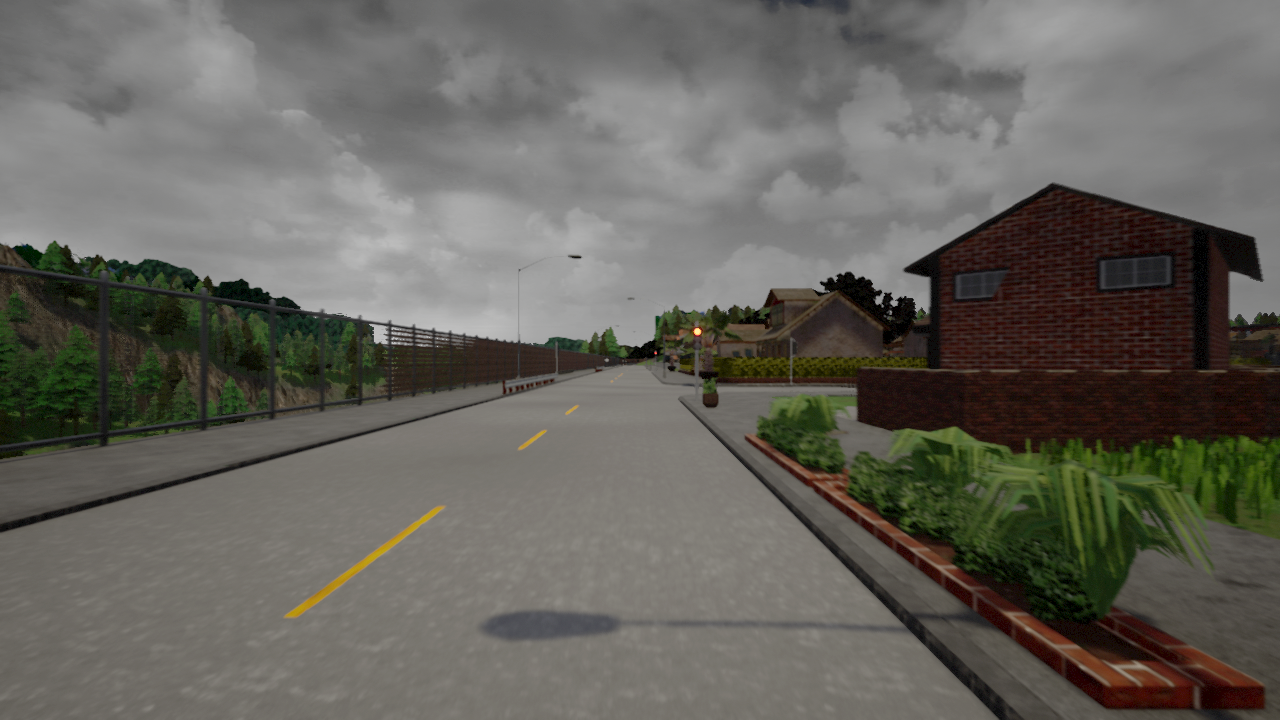red: (692, 326, 702, 350)
